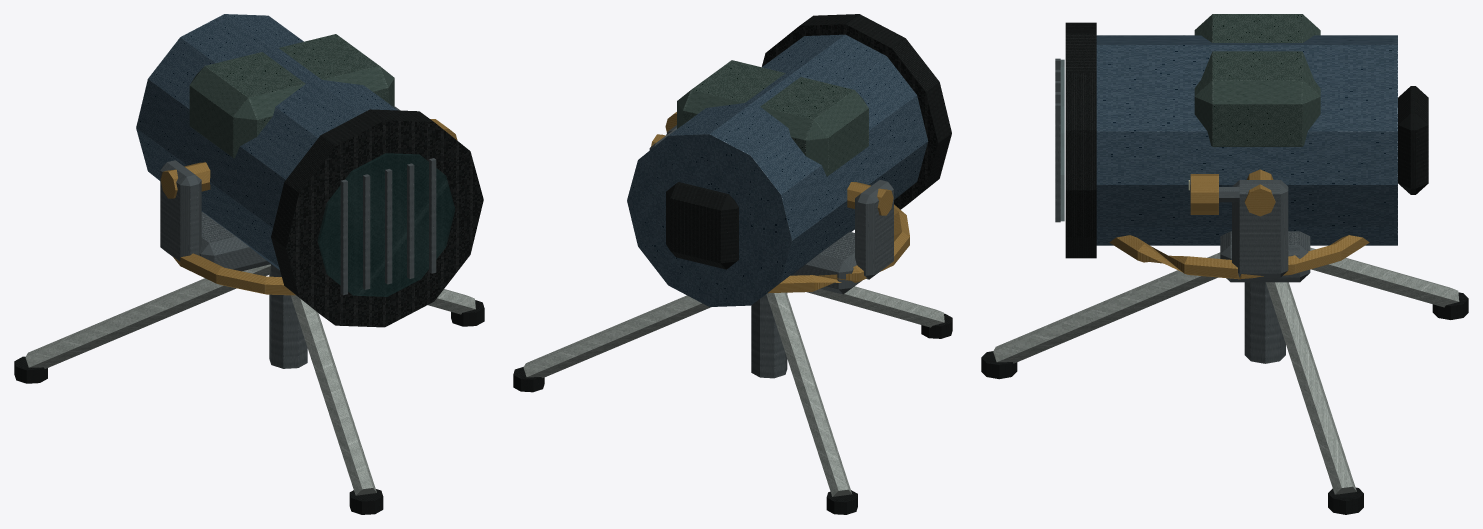
Rendered from blender_laser_grid_3_deployed.glb.
The picture shows the model from 3 angles, left to right: view 1: azimuth 30°, elevation 25°; view 2: azimuth 150°, elevation 25°; view 3: azimuth 270°, elevation 25°; orthographic projection. The views are drawn at different scales.
Visible parts, largest first — view 1: blender_laser_grid_3_deployed; view 2: blender_laser_grid_3_deployed; view 3: blender_laser_grid_3_deployed.
Boxes of the visible parts, <box> form: blender_laser_grid_3_deployed: <box>14,14,484,514</box>; blender_laser_grid_3_deployed: <box>513,14,952,514</box>; blender_laser_grid_3_deployed: <box>981,14,1468,514</box>.
Bounding box in the file's own units: 0.193 × 0.1559 × 0.1894.
Materials: 8 (8 with a texture image).
